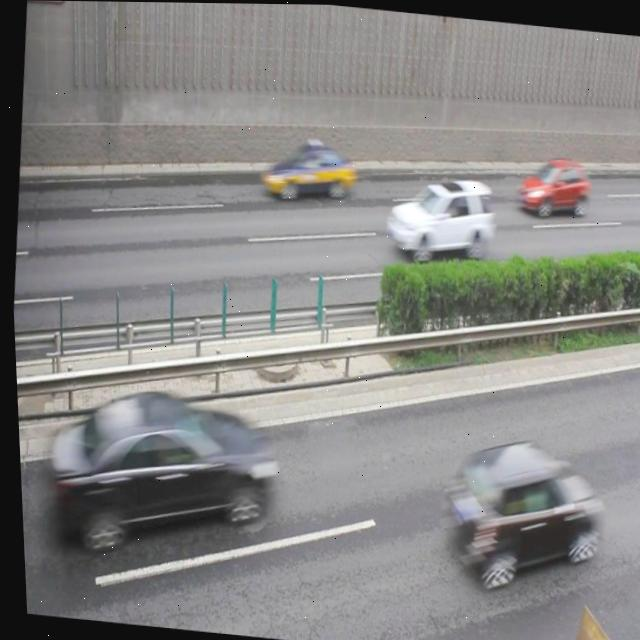car: (60, 380, 276, 560), (434, 430, 601, 593), (378, 168, 493, 268), (254, 134, 357, 207), (509, 151, 590, 219)
